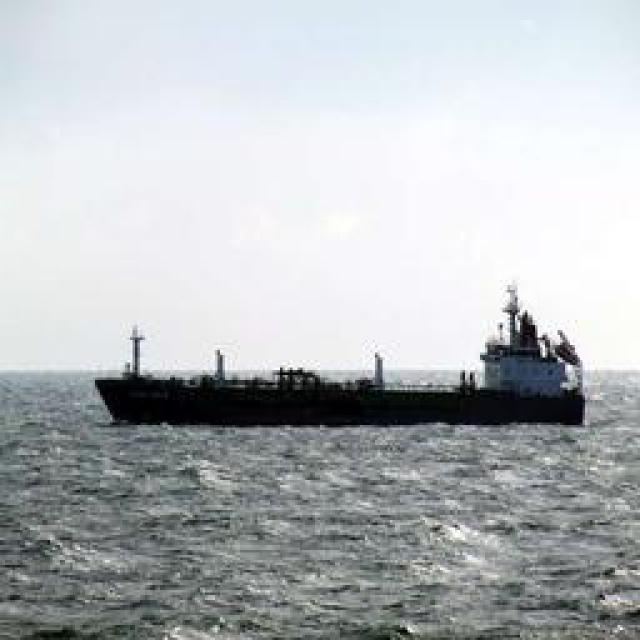Ship: (100, 300, 583, 433)
